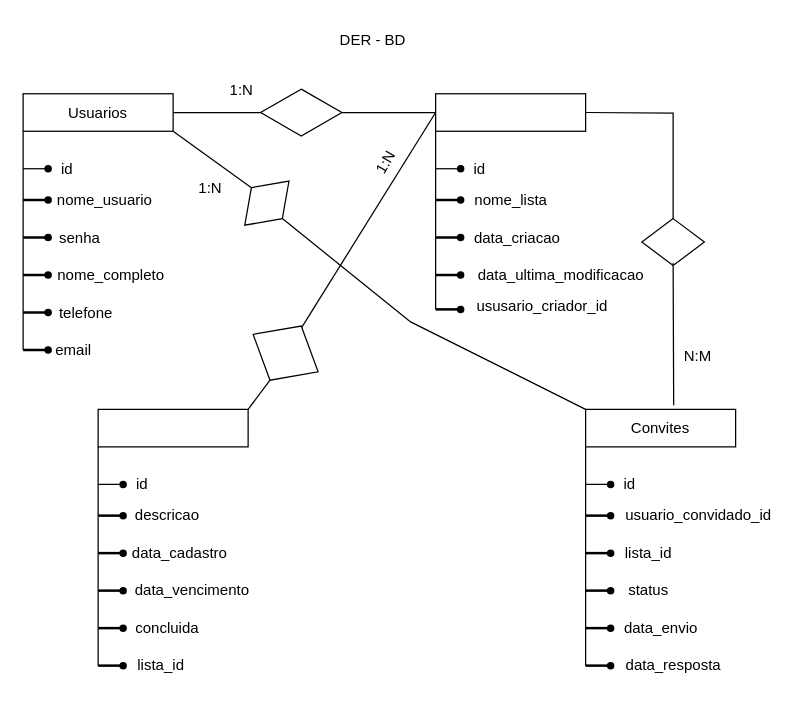
Some shapes in this 806 by 705 pixel diagram are drawn without their labels. The shapes that lost their labels are listed below. From the top down, each one's box as (x1, y1, x2, y2) in pixels, then its label:
(434, 92, 586, 131): Listas
(97, 408, 248, 447): Tarefas
